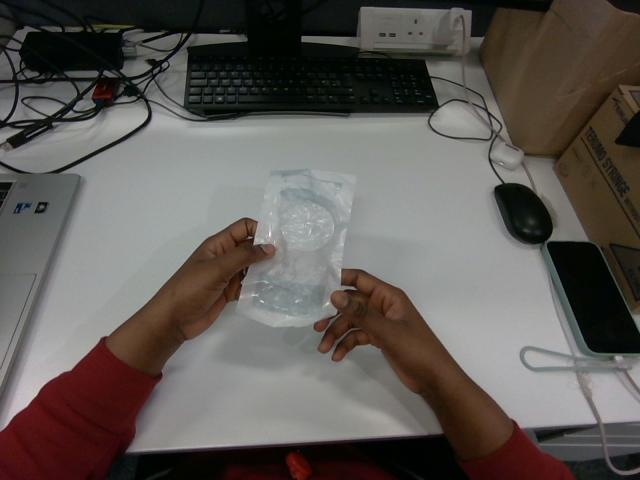gallipot: (237, 170, 355, 326)
